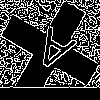A: (25, 25, 78, 82)
